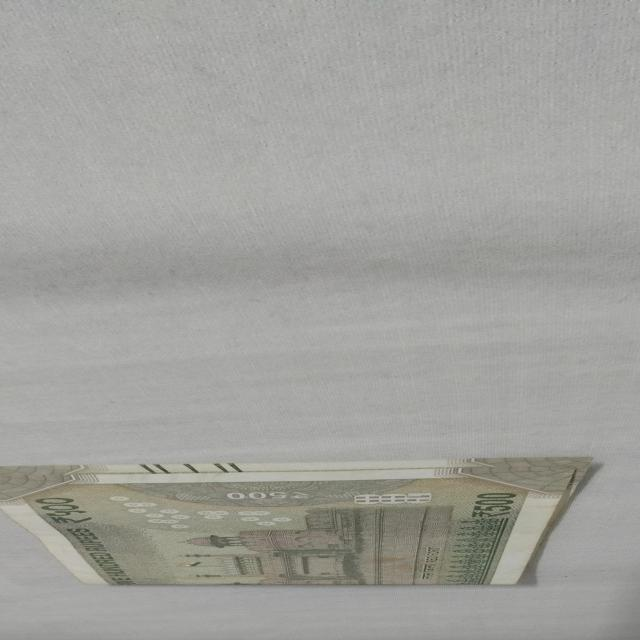Currency: (0, 460, 593, 591)
